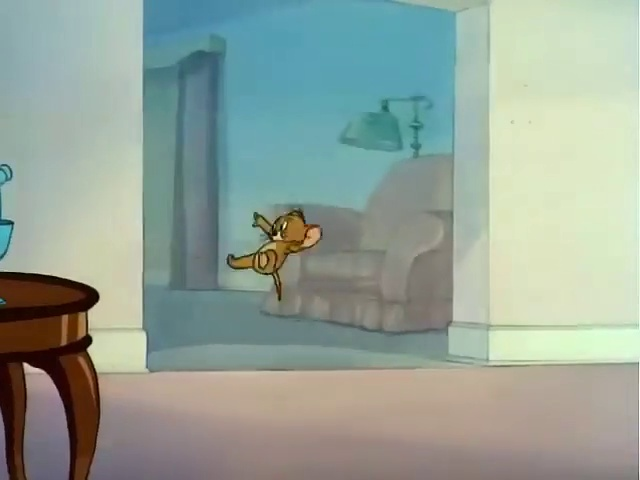jerry: (213, 184, 344, 307)
